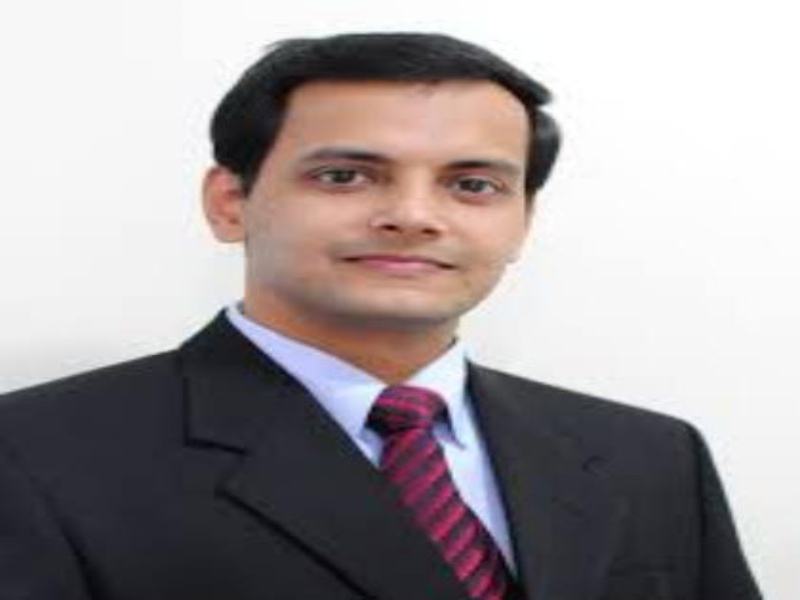TsisyArotava: (196, 21, 564, 366)
